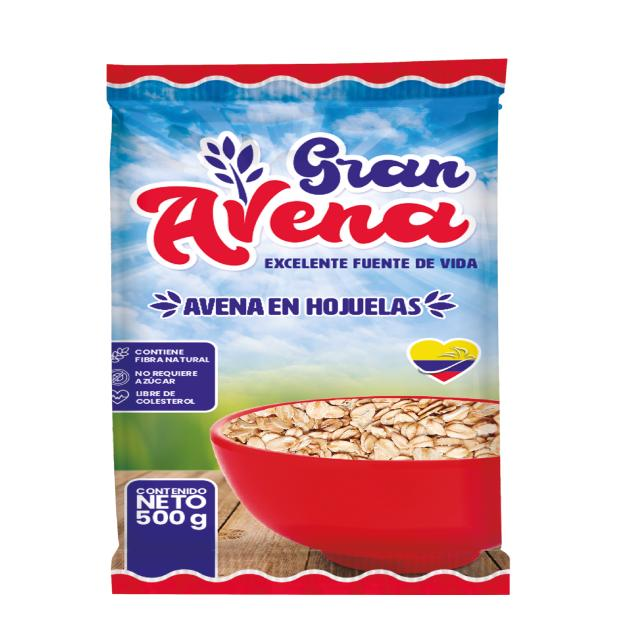avena: (232, 392, 501, 478)
